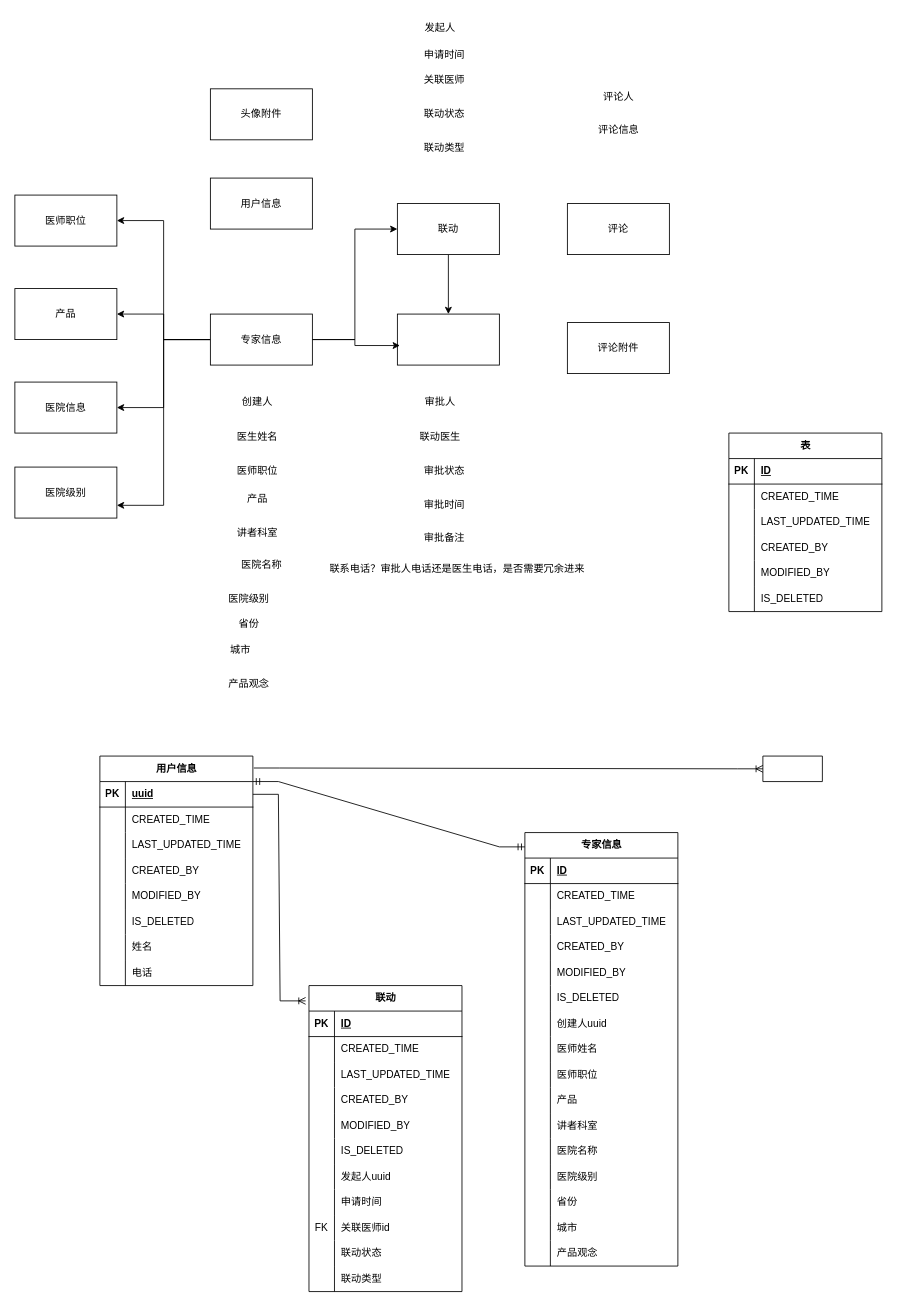
Some shapes in this 897 by 1306 pixel diagram are drawn without their labels. Here are the shapes that lost their labels. From the top down, the centre of each, then its label:
At point 448,339: "联动详情".
At point 792,768: "附件信息".
